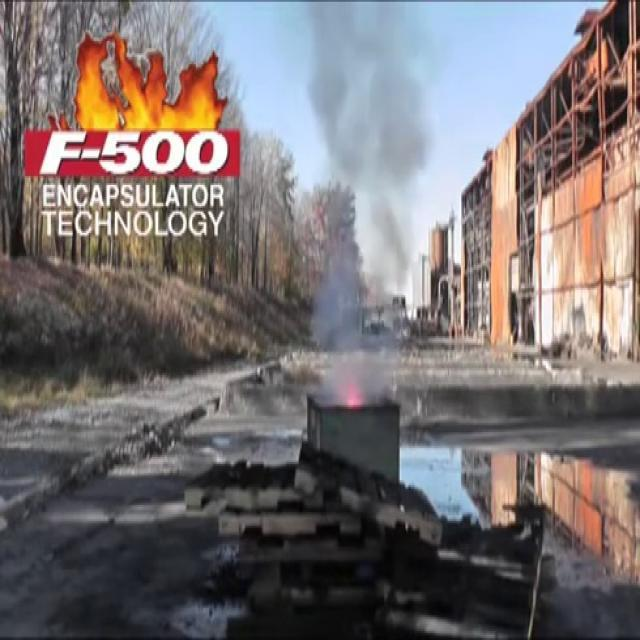Fire: (64, 28, 236, 138)
Smoke: (286, 1, 439, 376)
